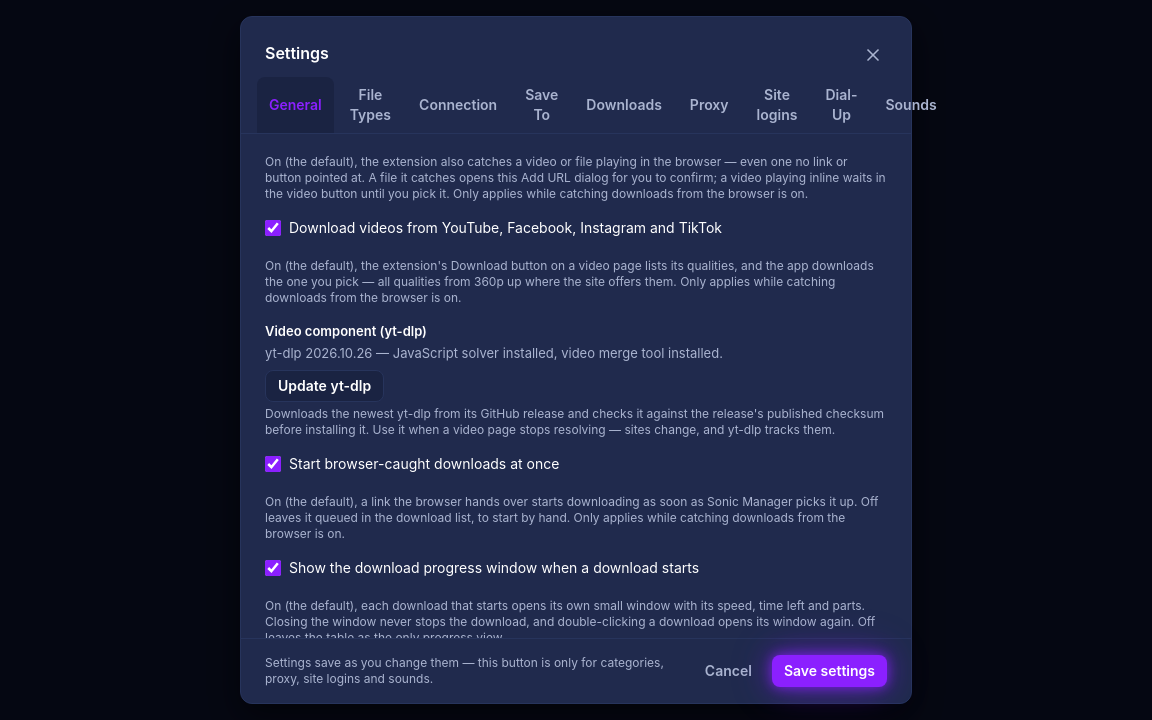
Update yt-dlp button › reports the new version when an update lands
(page scrolled)
expect the text "yt-dlp 2026.10.26" is shown: met, box [265,345,723,361]
Click the button "Update yt-dlp": (325, 386) [265,370,384,402]
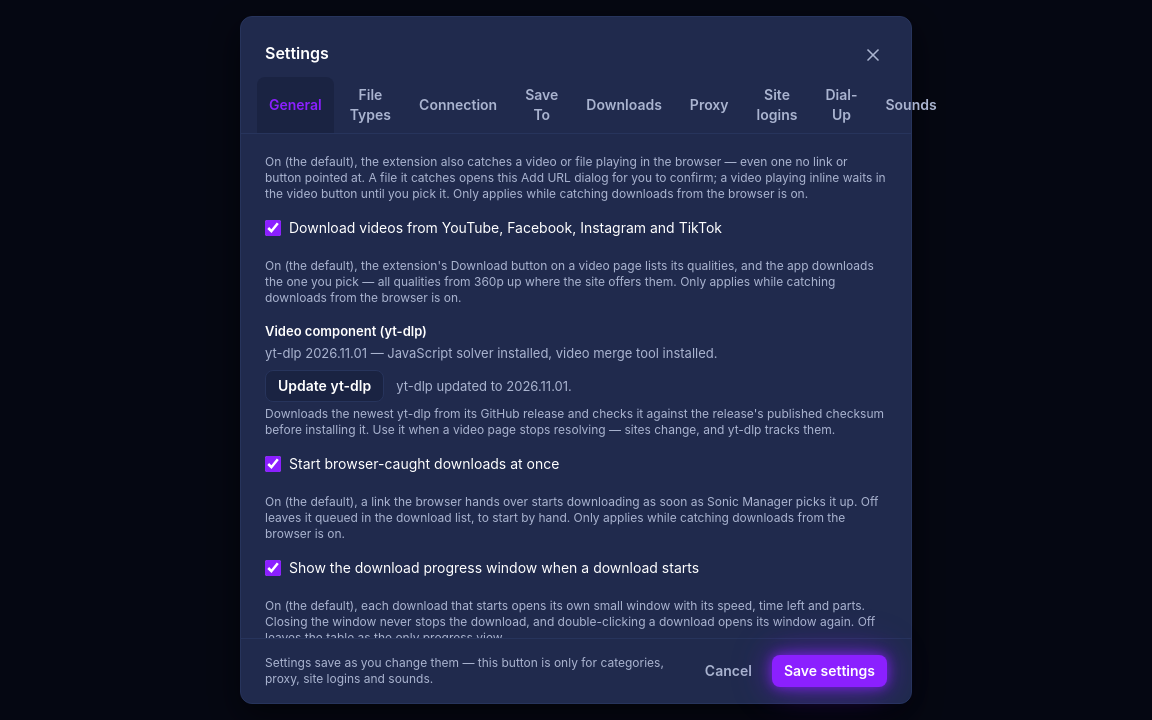
expect the text "yt-dlp updated to 2026.11.01." is shown: met, box [396,377,572,395]
